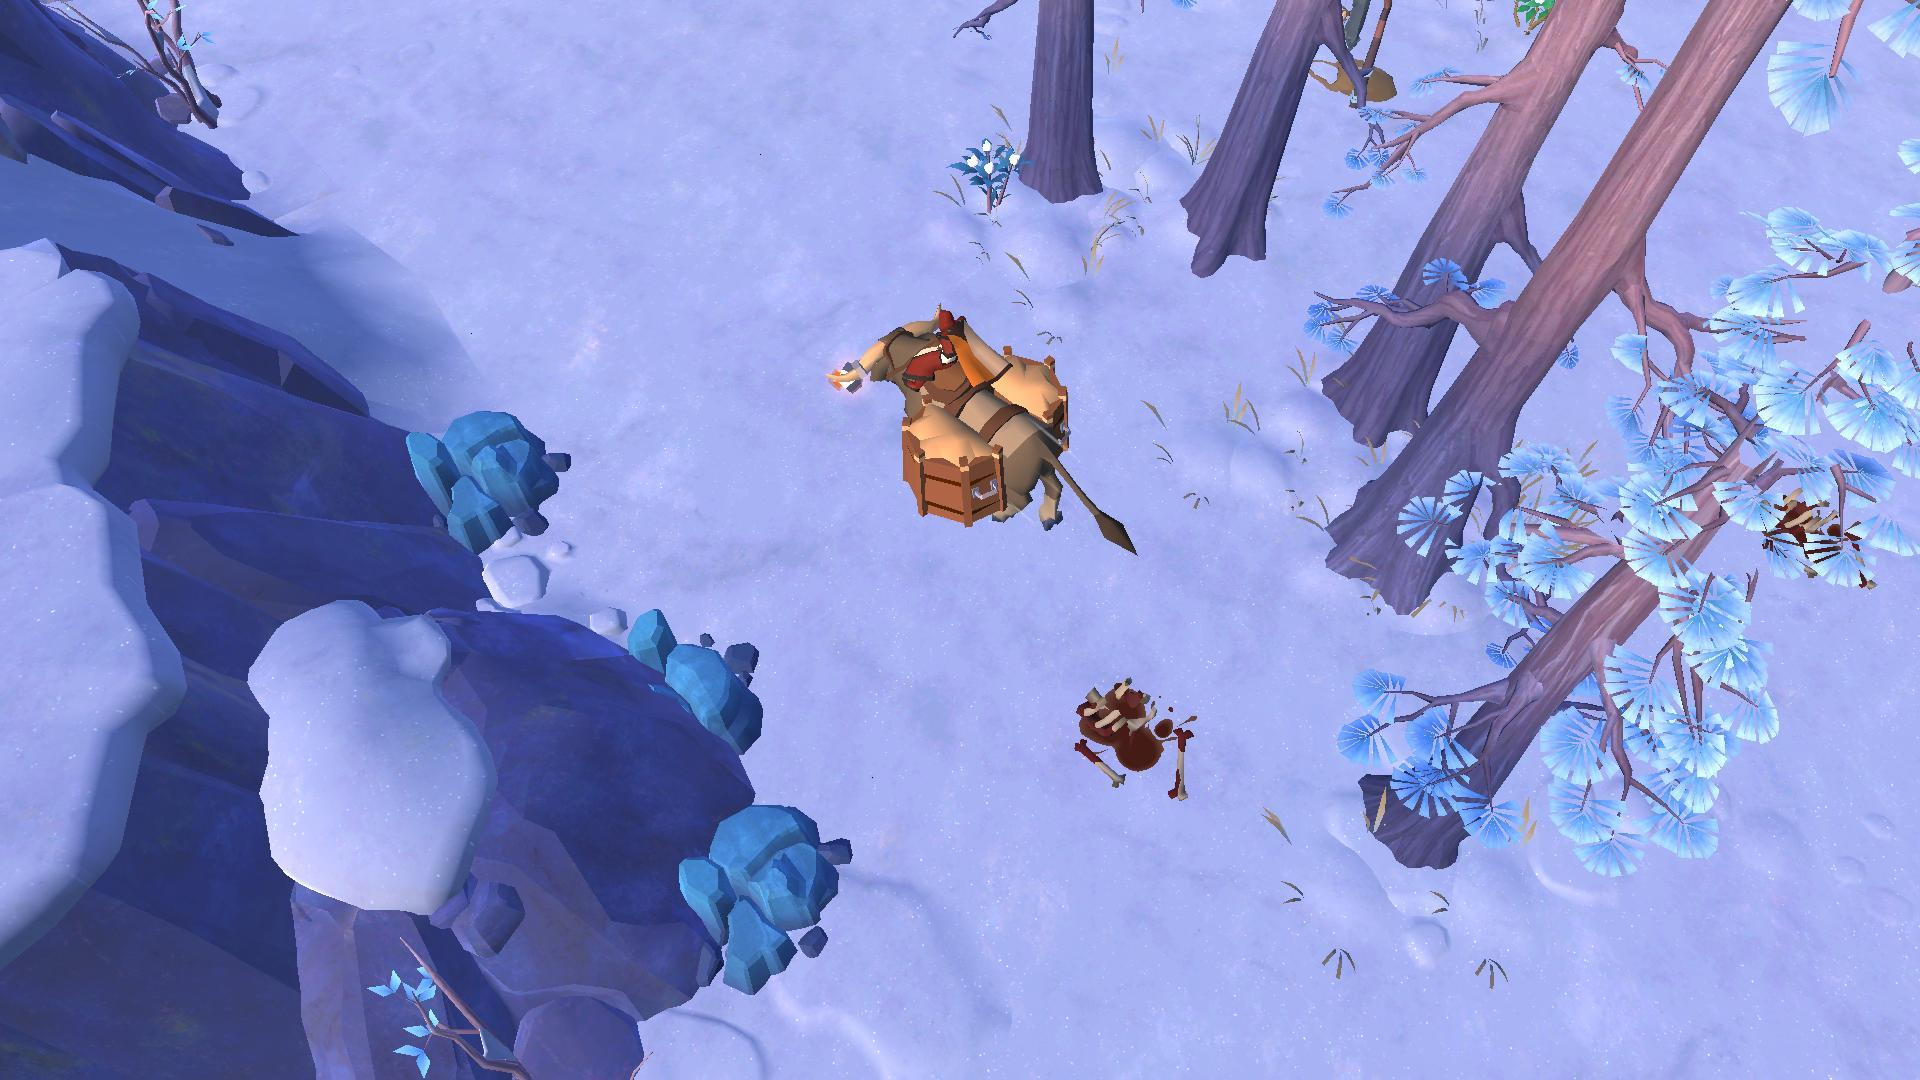fiber_t4: (949, 131, 1025, 214)
rock_t4: (659, 808, 851, 1004), (394, 398, 579, 554), (608, 607, 773, 753)
